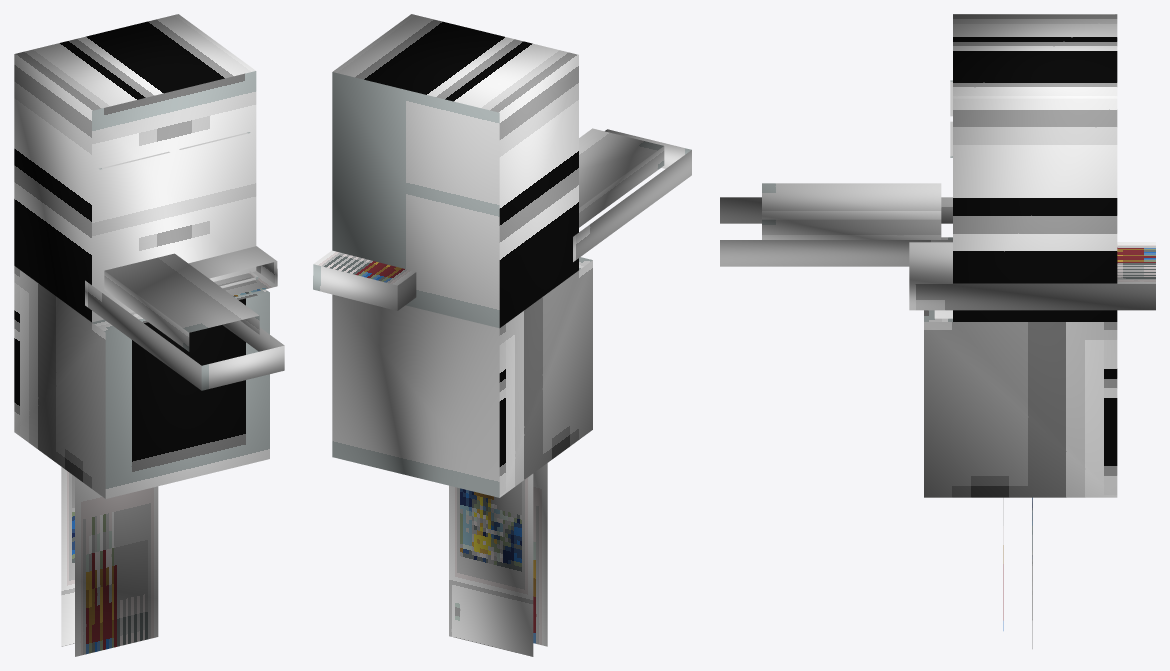
The picture shows the model from 3 angles, left to right: view 1: azimuth 30°, elevation 25°; view 2: azimuth 150°, elevation 25°; view 3: azimuth 270°, elevation 25°; orthographic projection. The views are drawn at different scales.
Parts seen in each view (by area): view 1: 3523IMOT01_04; view 2: 3523IMOT01_04; view 3: 3523IMOT01_04.
Boxes of the visible parts, left/top/right/bottom form: 3523IMOT01_04: left=14, top=14, right=284, bottom=656; 3523IMOT01_04: left=313, top=14, right=691, bottom=656; 3523IMOT01_04: left=720, top=14, right=1155, bottom=648.
Bounding box in the file's own units: 0.9069 × 2.96 × 1.96.
Materials: 3 (3 with a texture image).
